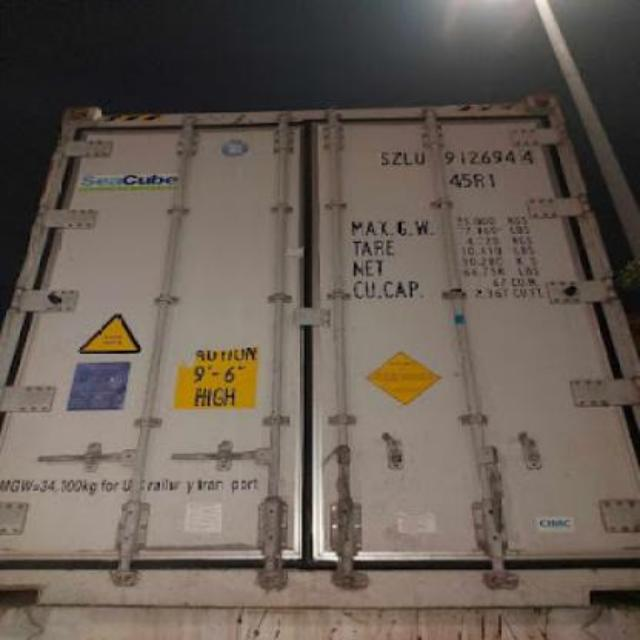1: (458, 150, 468, 166)
2: (468, 149, 482, 167)
4: (520, 150, 536, 166), (502, 149, 516, 165)
6: (481, 149, 494, 167)
9: (492, 149, 504, 167), (444, 150, 456, 166)
L: (402, 152, 414, 166)
S: (381, 150, 392, 166)
U: (414, 150, 426, 166)
Z: (390, 151, 402, 167)
